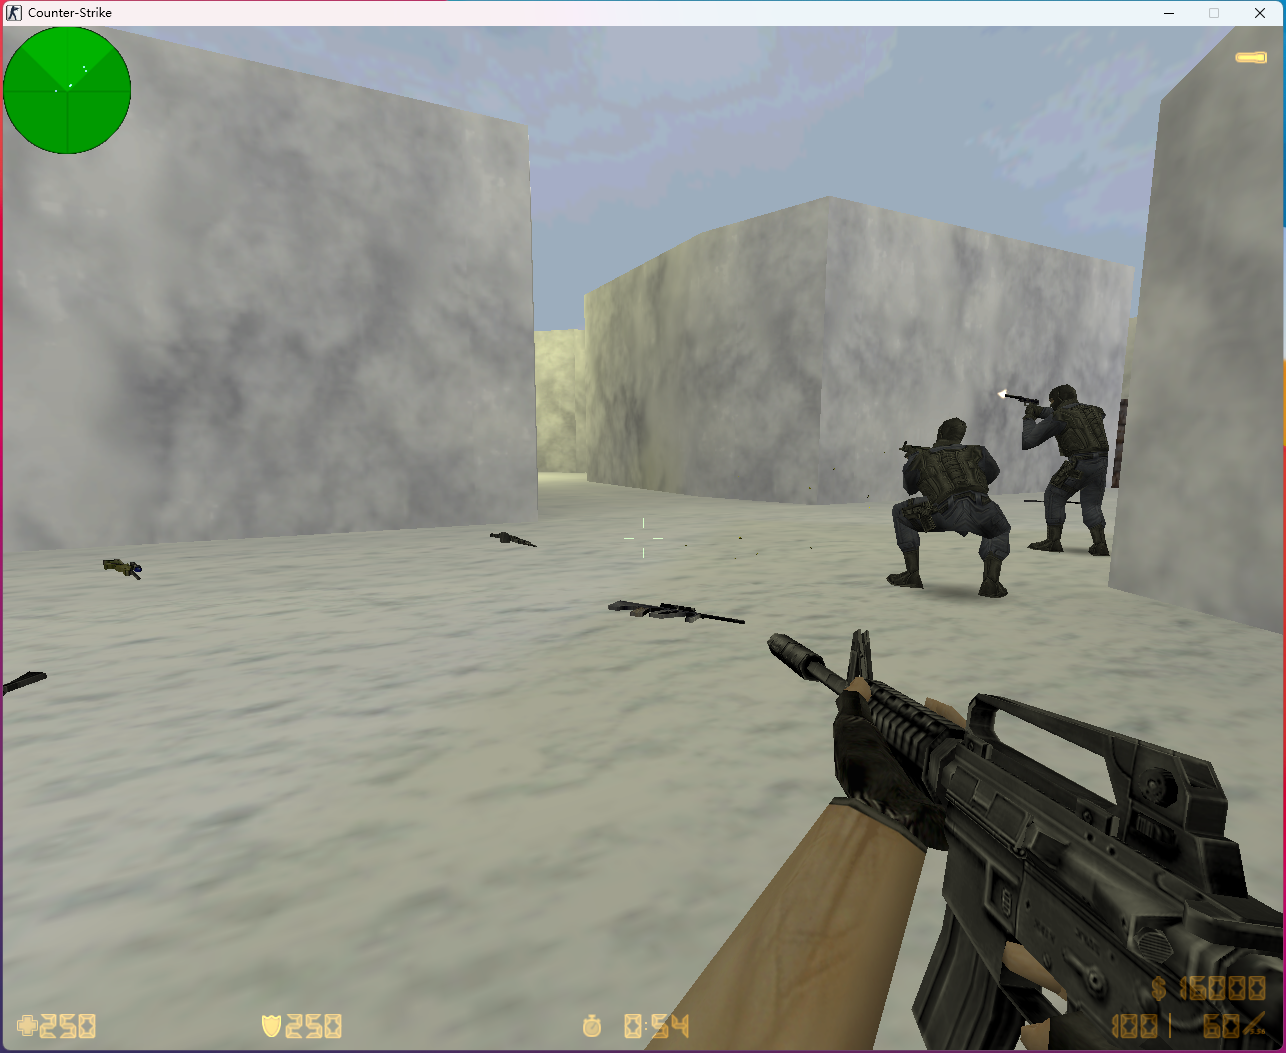C: (879, 417, 1017, 602), (1015, 382, 1114, 557)
weapon: (606, 596, 746, 626), (482, 526, 537, 552), (100, 555, 146, 581)
